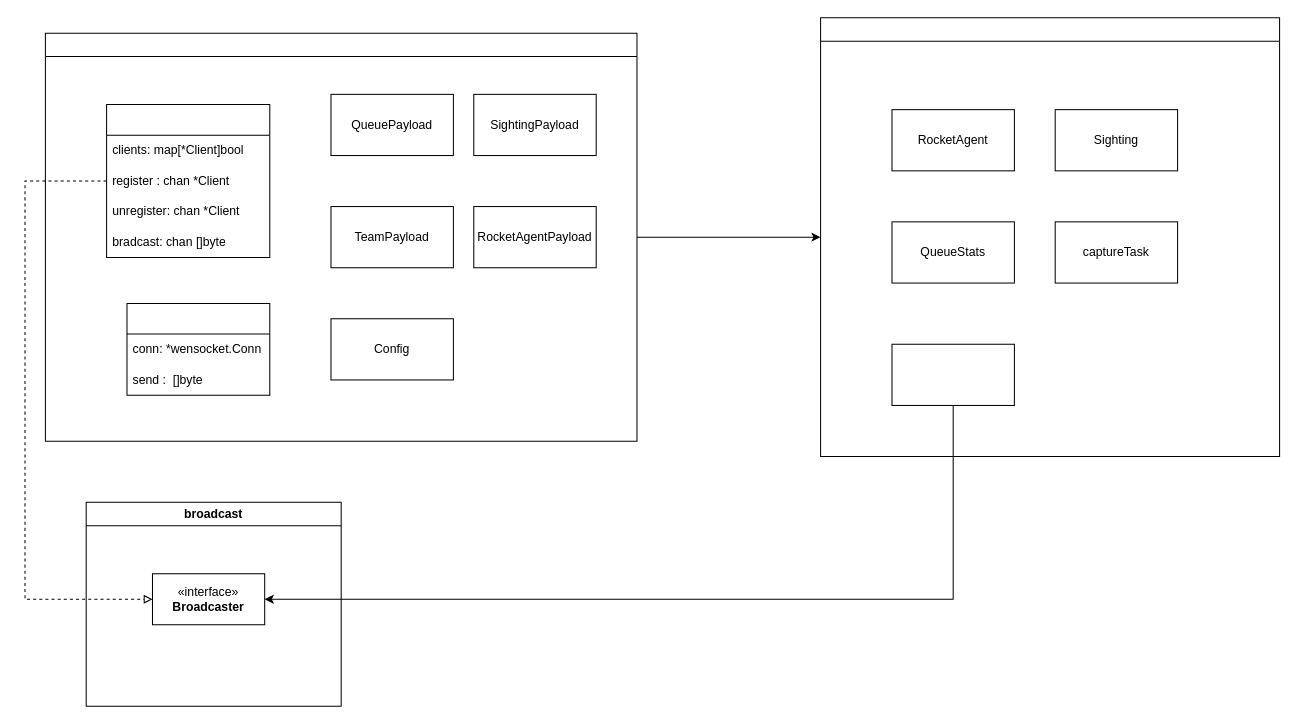
Image size: 1297x724. Some labels were removed from this diagram. The shapes that lost their labels are listed below. From the top down, each one's box as (x1, y1, x2, y2) in pixels, then its label:
(106, 104, 270, 258): Hub
(44, 32, 637, 441): main
(820, 17, 1280, 456): event
(126, 302, 270, 395): Client
(891, 343, 1014, 405): Team
